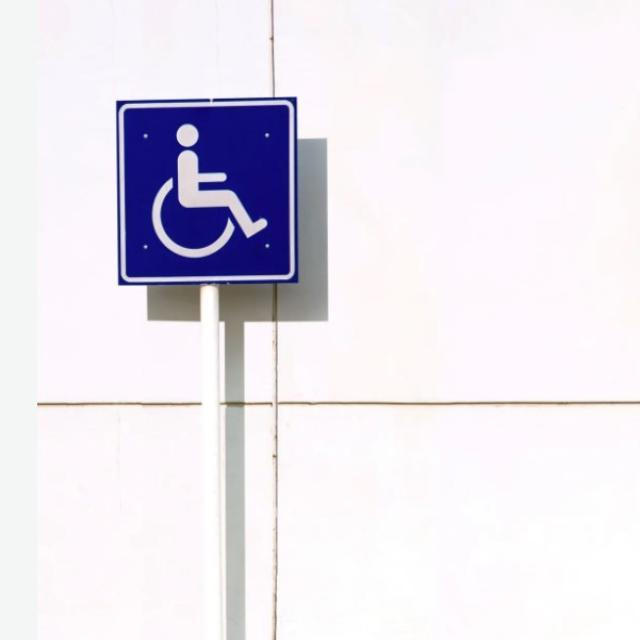symbol_of_access: (115, 96, 298, 285)
